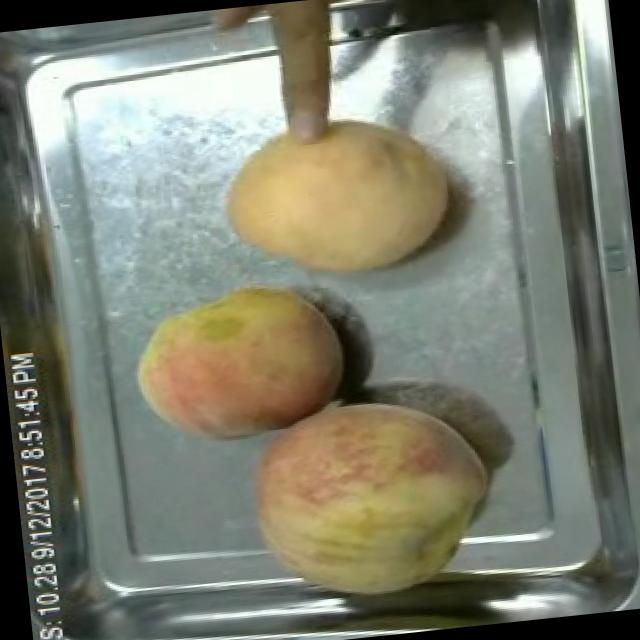Fruit: (228, 377, 506, 625), (209, 95, 462, 298), (120, 266, 357, 456)
